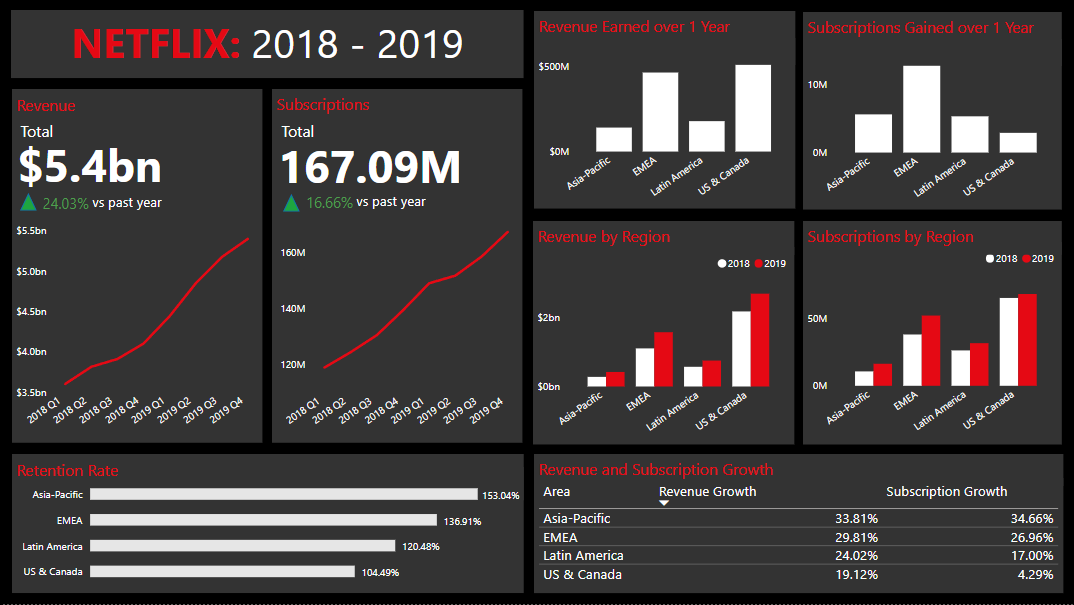

This screenshot's page, from the dashboard's own definition file:
{"tool":"powerbi","page":{"name":"Page 1","canvas":[1280,720],"ordinal":0},"visuals":[{"type":"shape","box":[0,0,1279.7,720],"z":0},{"type":"tableEx","fields":{"Values":["Query3.Area","Sum(Query3.SubPercentChange)","Sum(Query3.RevPercentChange)"]},"box":[635.2,570.3,630.4,136.7],"z":1000},{"type":"card","fields":{"Values":["Sum(Query1.SubPercentChange)"]},"box":[357,213.1,69.5,62],"z":2000,"group":"g1"},{"type":"card","fields":{"Values":["Sum(Query1.RevPercentChange)"]},"box":[34.2,214.7,88.4,62],"z":2000,"group":"g2"},{"type":"textbox","box":[635.2,542.1,630.4,37.7],"z":2000},{"type":"shape","box":[324.1,107.2,298.1,420.7],"z":3000},{"type":"shape","box":[14.1,107.2,298.1,420.7],"z":4000},{"type":"card","fields":{"Values":["Sum(Query1.Revenue)"]},"box":[14.1,122.6,185,144.9],"z":5000},{"type":"clusteredColumnChart","fields":{"Category":["Query3.Area"],"Y":["Sum(Query3.Revenue)"],"Series":["Query3.Year"]},"box":[956.9,76.6,309.9,451.3],"z":6000},{"type":"textbox","box":[419.5,225.5,116.7,36],"z":6000,"group":"g1"},{"type":"textbox","box":[104.9,227.1,116.7,36],"z":6000,"group":"g2"},{"type":"card","fields":{"Values":["Sum(Query1.Subscribers)"]},"box":[324,122.3,233.3,147.3],"z":7000},{"type":"shape","box":[23.6,230.8,20,21.1],"z":7000,"group":"g2"},{"type":"shape","box":[337,231.7,20,21.1],"z":7000,"group":"g1"},{"type":"textbox","box":[14.1,108.5,260.4,83.1],"z":8000},{"type":"clusteredColumnChart","fields":{"Category":["Query3.Area"],"Y":["Sum(Query3.Subscription)"],"Series":["Query3.Year"]},"box":[635.2,76.6,308.7,451.3],"z":9000},{"type":"lineChart","fields":{"Category":["Query2.YearQuarter"],"Y":["Sum(Query2.Revenue)"]},"box":[14.1,261.6,298.1,266.3],"z":10000},{"type":"textbox","box":[635.2,13,308.7,63.6],"z":11000},{"type":"textbox","box":[324.1,107.2,260.4,69.5],"z":12000},{"type":"textbox","box":[18.9,139.1,139.1,76.6],"z":13000},{"type":"shape","box":[14.1,542.1,609.2,55.4],"z":14000},{"type":"lineChart","fields":{"Category":["Query2.YearQuarter"],"Y":["Sum(Query2.Subscribers)"]},"box":[324.1,253.4,298.1,274.6],"z":15000},{"type":"clusteredBarChart","fields":{"Category":["Query3.Area"],"Y":["Sum(Query3.RetentionRate)"]},"box":[14.1,557.4,609.2,149.7],"z":16000},{"type":"textbox","box":[330,139.1,133.2,81.3],"z":17000},{"type":"textbox","box":[14.1,543.2,260.4,148.5],"z":18000},{"type":"textbox","box":[13,13,610.4,81.3],"z":19000},{"type":"textbox","box":[956.9,13,309.9,63.6],"z":20000},{"type":"group","id":"g1","title":"Group 1","box":[337,213.1,199.1,62],"z":21000},{"type":"group","id":"g2","title":"Group 2","box":[23.6,214.7,198,62],"z":22000}]}

Visuals, with their boxes in screenshot pixels (x1, y1, x2, y2), scaled from the page's 1280x720 canvas onto the 1074x605 screenshot:
shape: detection(0, 0, 1073, 604)
tableEx - Query3.Area x Sum(Query3.SubPercentChange): detection(533, 479, 1062, 594)
card - Sum(Query1.SubPercentChange): detection(300, 179, 358, 231)
card - Sum(Query1.RevPercentChange): detection(29, 180, 103, 233)
textbox: detection(533, 456, 1062, 487)
shape: detection(272, 90, 522, 444)
shape: detection(12, 90, 262, 444)
card - Sum(Query1.Revenue): detection(12, 103, 167, 225)
clusteredColumnChart - Query3.Area x Sum(Query3.Revenue): detection(803, 64, 1063, 444)
textbox: detection(352, 189, 450, 220)
textbox: detection(88, 191, 186, 221)
card - Sum(Query1.Subscribers): detection(272, 103, 468, 227)
shape: detection(20, 194, 37, 212)
shape: detection(283, 195, 300, 212)
textbox: detection(12, 91, 230, 161)
clusteredColumnChart - Query3.Area x Sum(Query3.Subscription): detection(533, 64, 792, 444)
lineChart - Query2.YearQuarter x Sum(Query2.Revenue): detection(12, 220, 262, 444)
textbox: detection(533, 11, 792, 64)
textbox: detection(272, 90, 490, 148)
textbox: detection(16, 117, 133, 181)
shape: detection(12, 456, 523, 502)
lineChart - Query2.YearQuarter x Sum(Query2.Subscribers): detection(272, 213, 522, 444)
clusteredBarChart - Query3.Area x Sum(Query3.RetentionRate): detection(12, 468, 523, 594)
textbox: detection(277, 117, 389, 185)
textbox: detection(12, 456, 230, 581)
textbox: detection(11, 11, 523, 79)
textbox: detection(803, 11, 1063, 64)
"Group 1" group: detection(283, 179, 450, 231)
"Group 2" group: detection(20, 180, 186, 233)
